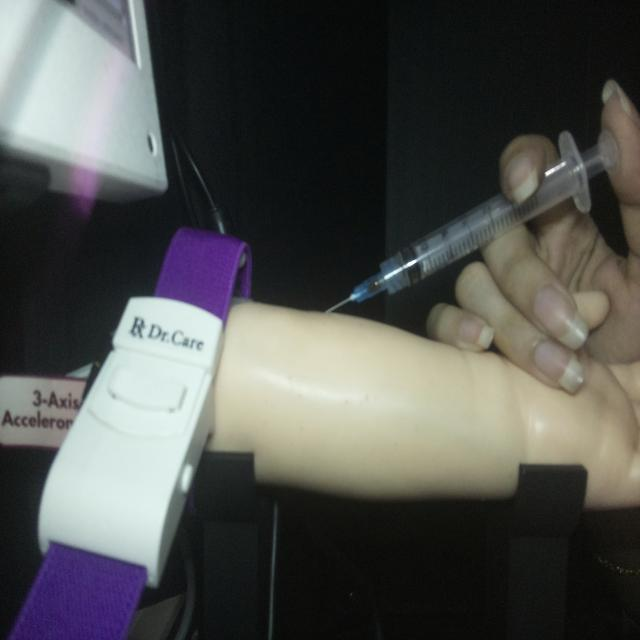20 degrees: (323, 122, 620, 316)
